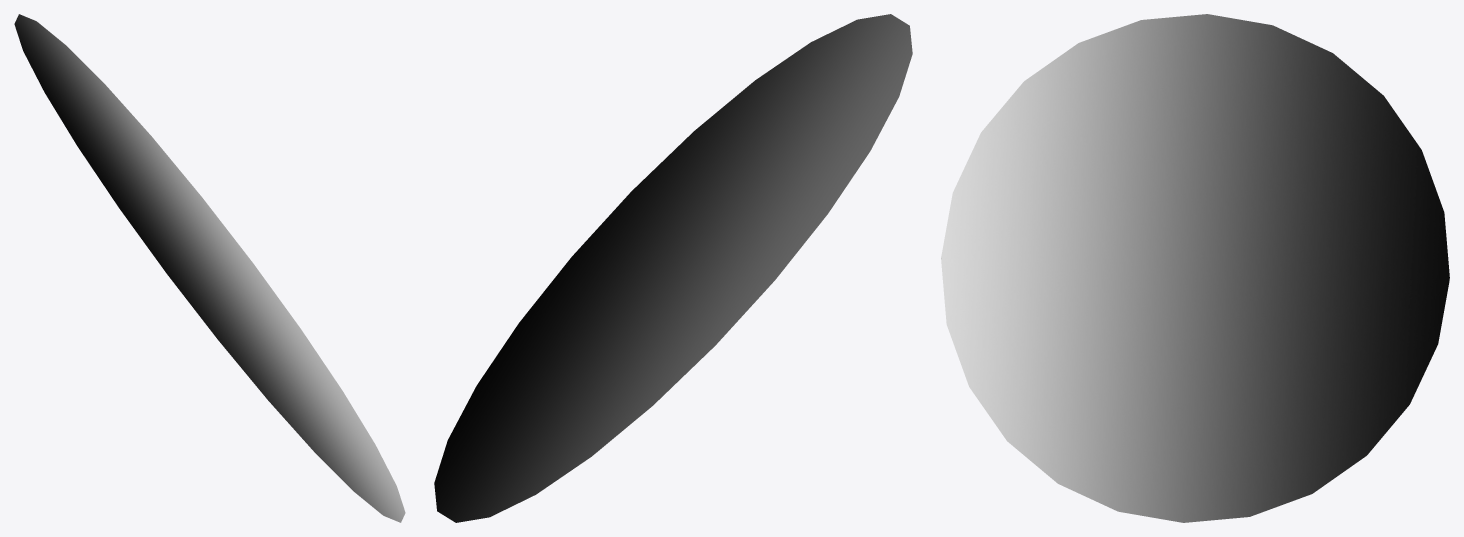
3 renders of one model, left to right at view 1: azimuth 30°, elevation 25°; view 2: azimuth 150°, elevation 25°; view 3: azimuth 270°, elevation 25°, orthographic. The views are drawn at different scales.
Visible parts, largest first — view 1: dF05; view 2: dF05; view 3: dF05.
Boxes of the visible parts, left/top/right/bottom form: dF05: left=14, top=14, right=405, bottom=522; dF05: left=434, top=14, right=912, bottom=522; dF05: left=941, top=14, right=1449, bottom=522.
Size of the model in its own units: 51.25 by 88.78 by 102.
